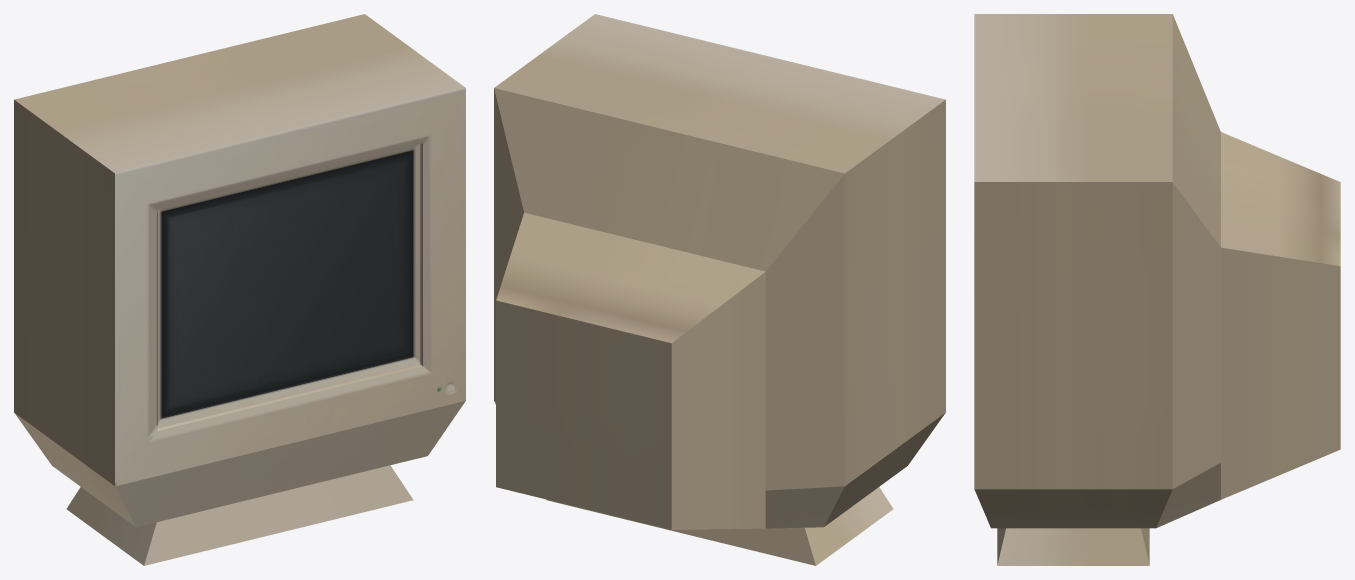
File: OLD_MONITOR.fbx
3 views of the same model, side by side, from view 1: azimuth 30°, elevation 25°; view 2: azimuth 150°, elevation 25°; view 3: azimuth 270°, elevation 25° (orthographic).
Parts seen in each view (by area): view 1: OLD_MONITOR; view 2: OLD_MONITOR; view 3: OLD_MONITOR.
Boxes of the visible parts, bbox=[...] form: OLD_MONITOR: bbox=[14, 14, 465, 565]; OLD_MONITOR: bbox=[494, 14, 945, 565]; OLD_MONITOR: bbox=[974, 14, 1340, 565].
Size of the model in its own units: 38.19 by 42.73 by 35.17.
